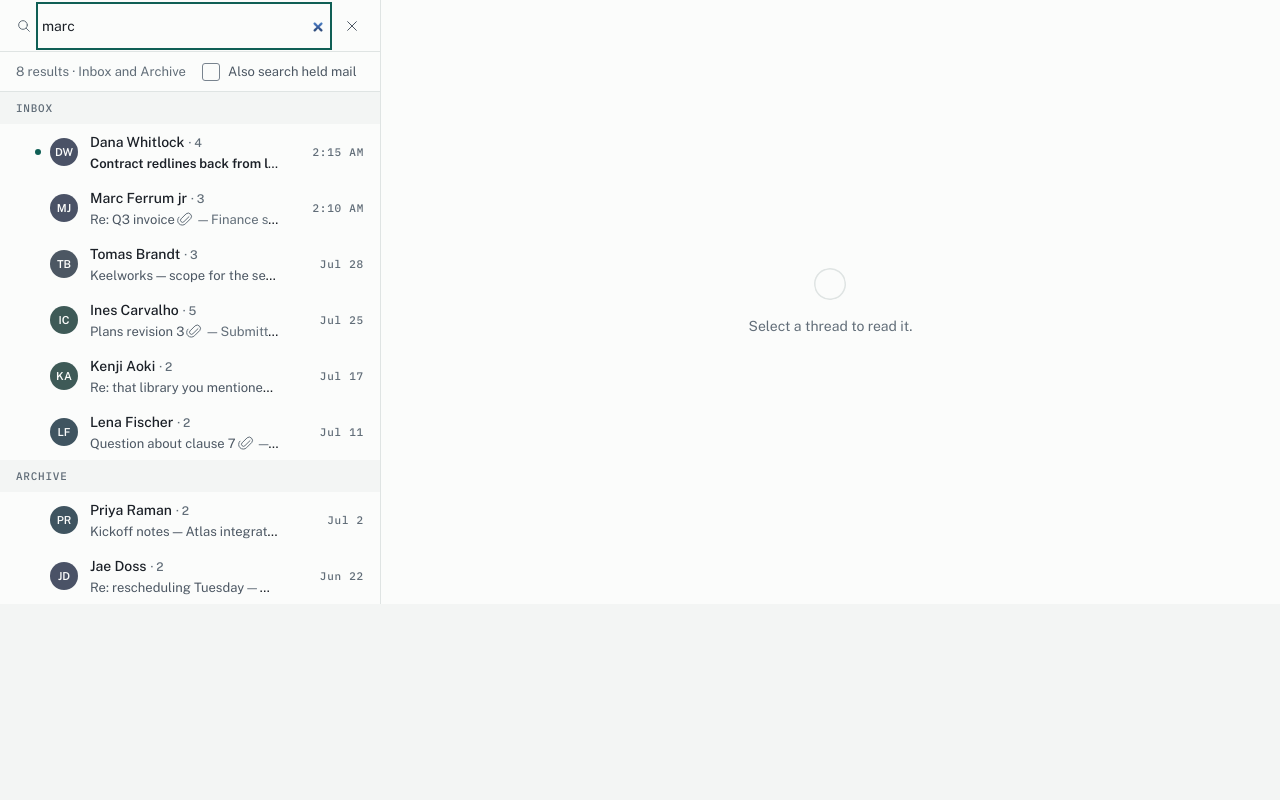
Test: search result keyboard navigation (§8.1) › still replies and closes with no results left
Click the button with aria-label "Dana Whitlock, Contract redlines back from legal, 10 minutes".
click(203, 152)  # box [26,124,380,180]
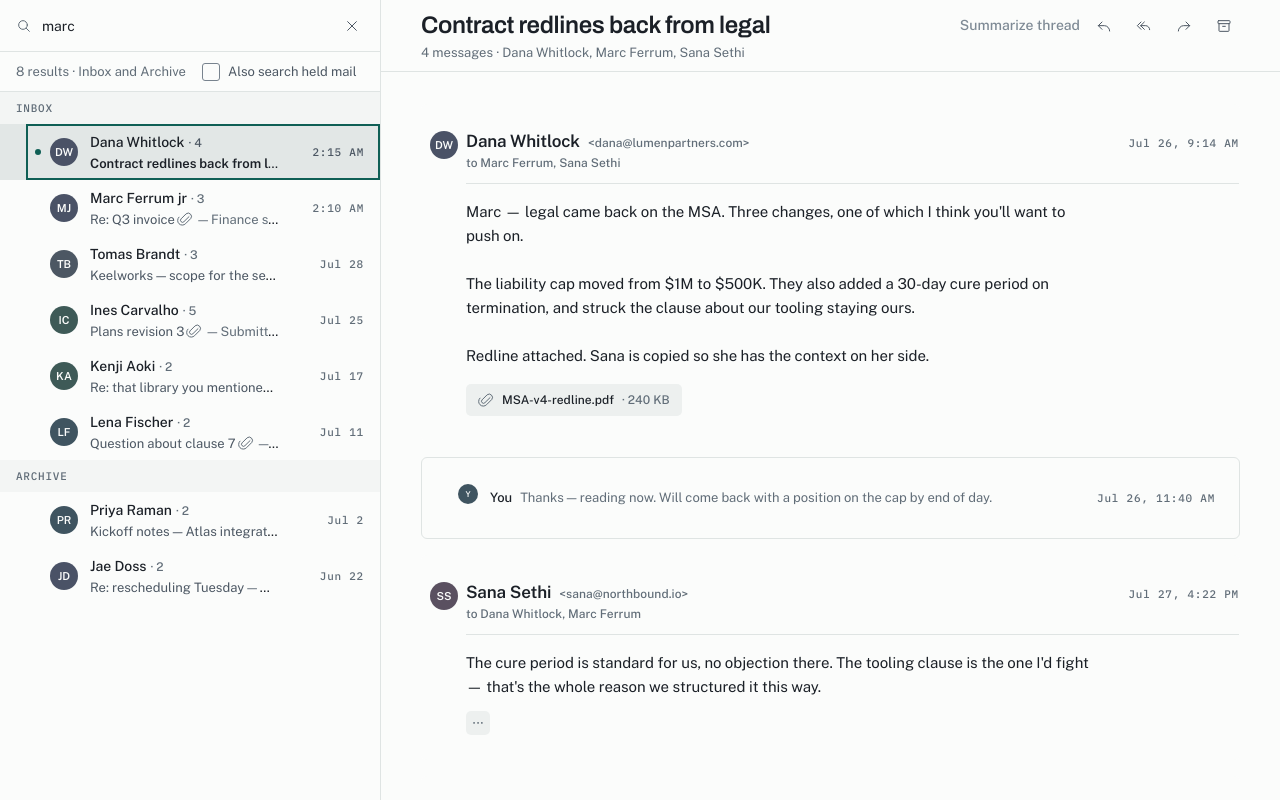
Now the heading "Contract redlines back from legal" is shown, box [421,10,770,40]
Clear the search field named "Search mail" at (184,26), box [40,6,328,46]
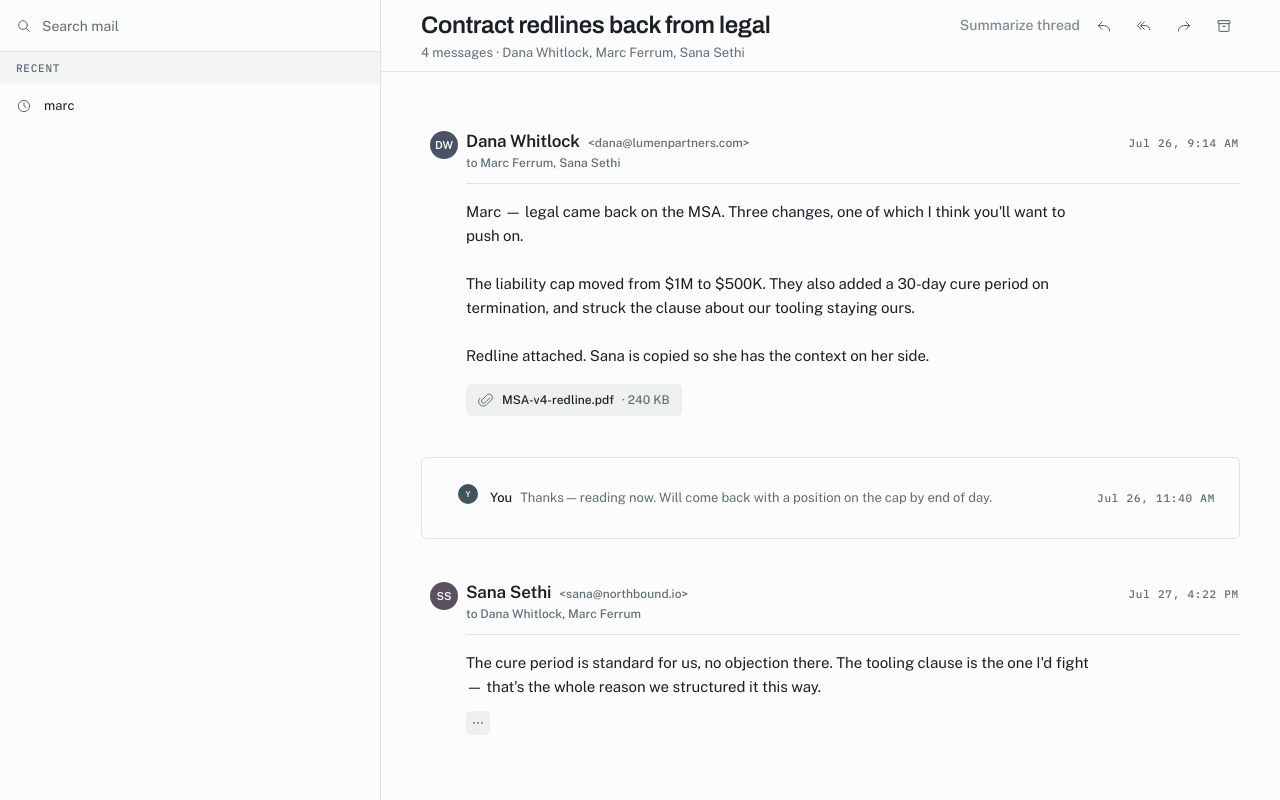
Now no list items are shown
Type keys "r"
(page scrolled)
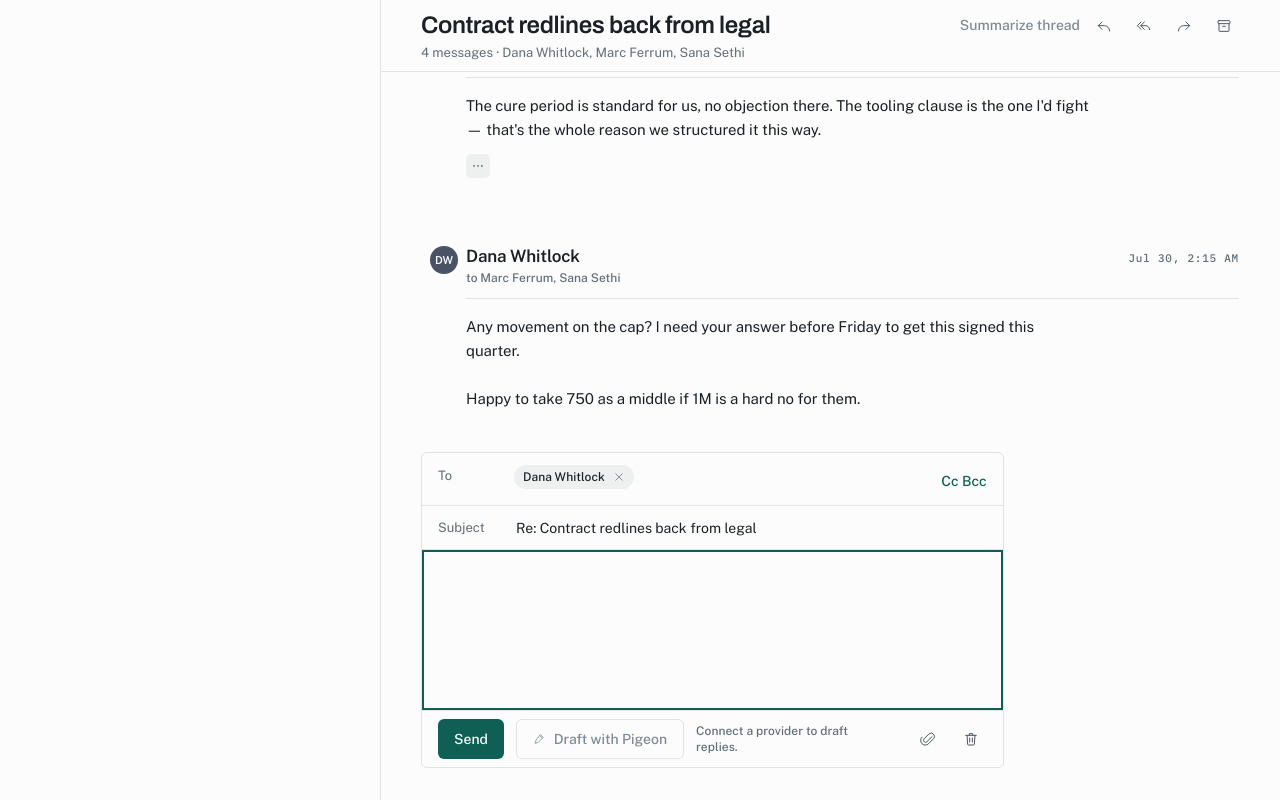
Now the text box named "Message body" is shown, box [422,550,1003,710]
Press Escape
(page scrolled)
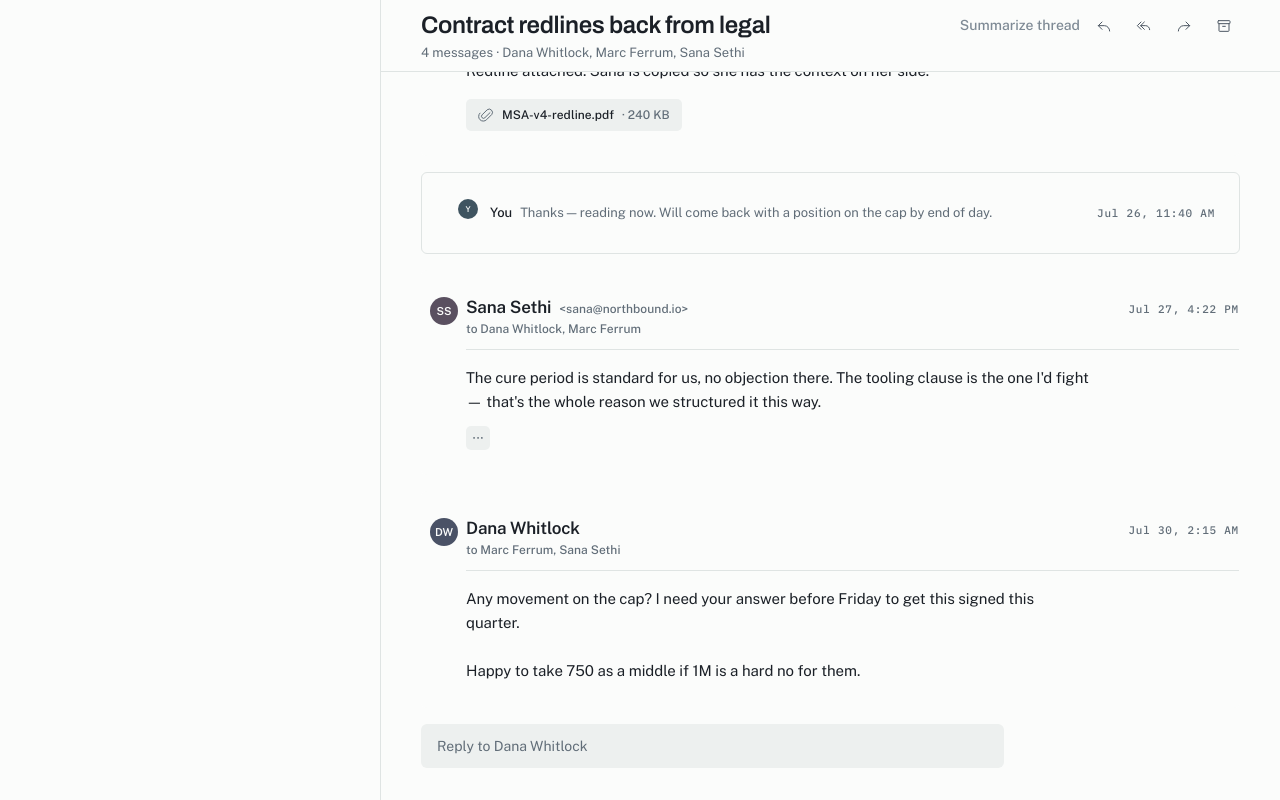
Type keys "u"
(page scrolled)
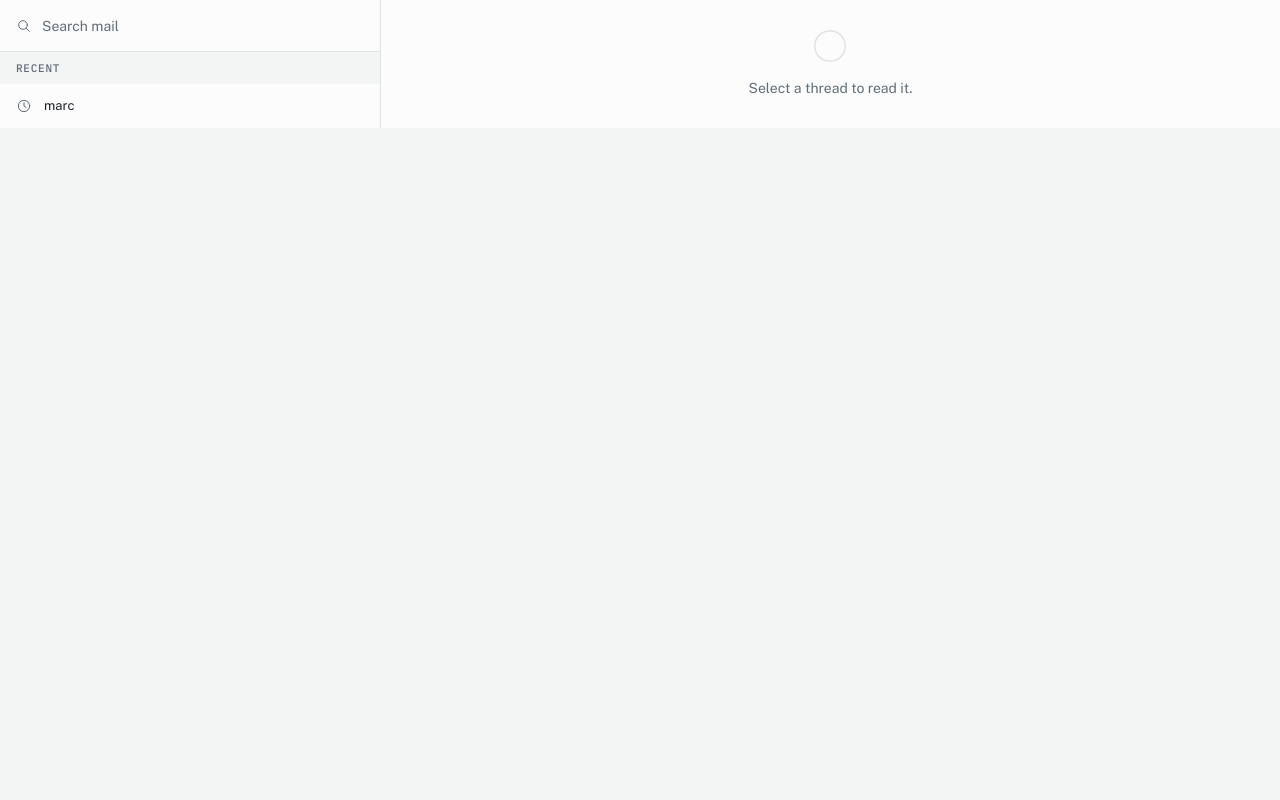
Now the heading "Contract redlines back from legal" is gone
